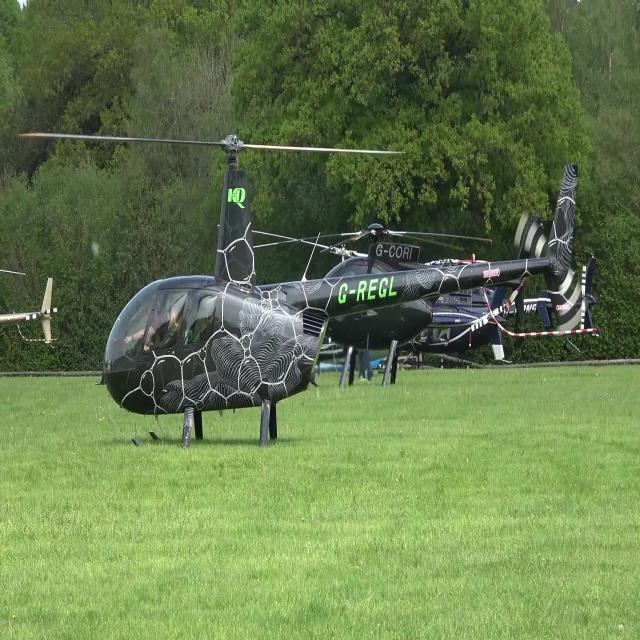CIV_HELO: (100, 130, 584, 454)
